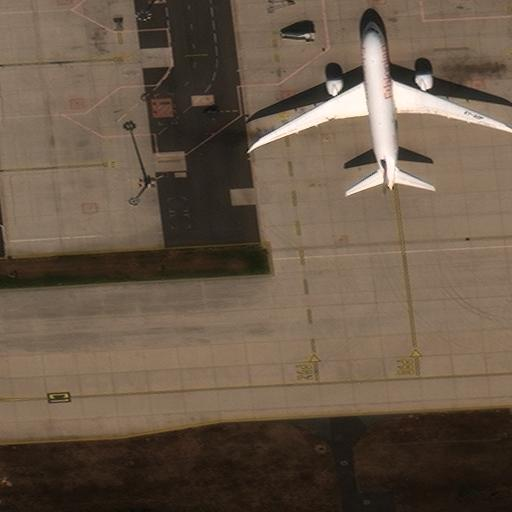Large Civil Transport: (255, 22, 511, 190)
